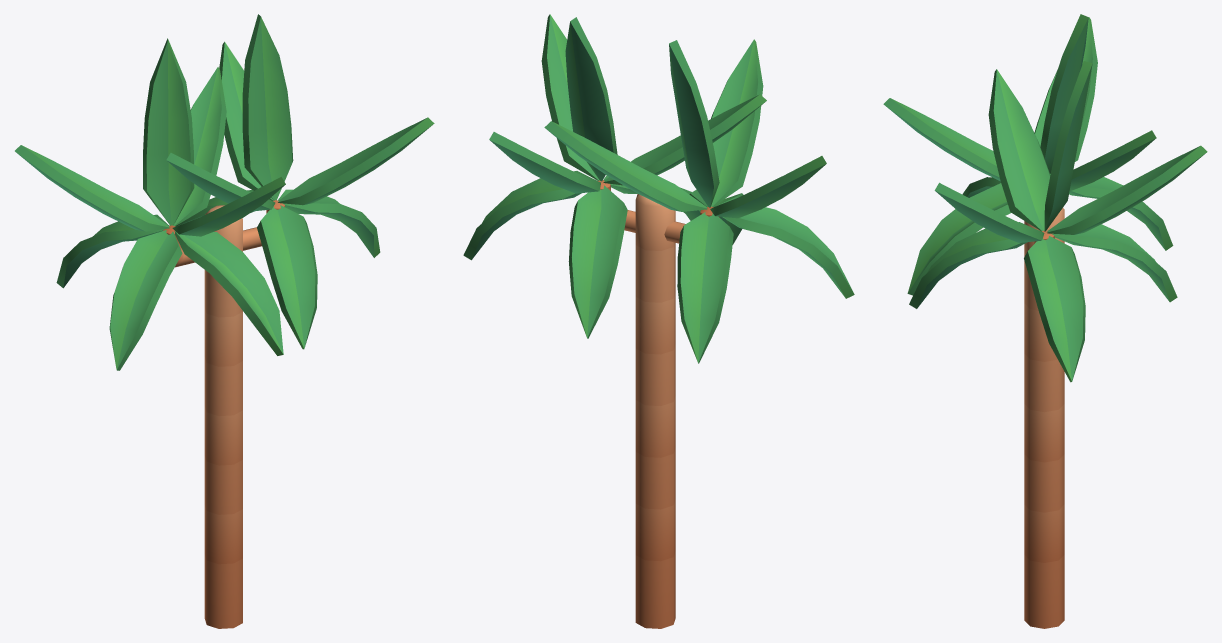
The model's file is house_plants_plants_yucca_branch_e3ljimdbop.glb.
3 views of the same model, side by side, from view 1: azimuth 30°, elevation 25°; view 2: azimuth 150°, elevation 25°; view 3: azimuth 270°, elevation 25° (orthographic). The views are drawn at different scales.
Visible parts, largest first — view 1: yucca_branch_medium_C; view 2: yucca_branch_medium_C; view 3: yucca_branch_medium_C.
Boxes of the visible parts, x1,y1,x2,y2 form: yucca_branch_medium_C: (15,14,434,628); yucca_branch_medium_C: (463,14,854,628); yucca_branch_medium_C: (883,14,1207,628).
Size of the model in its own units: 1.22 by 1.88 by 0.9402.
Materials: 1 (1 with a texture image).
